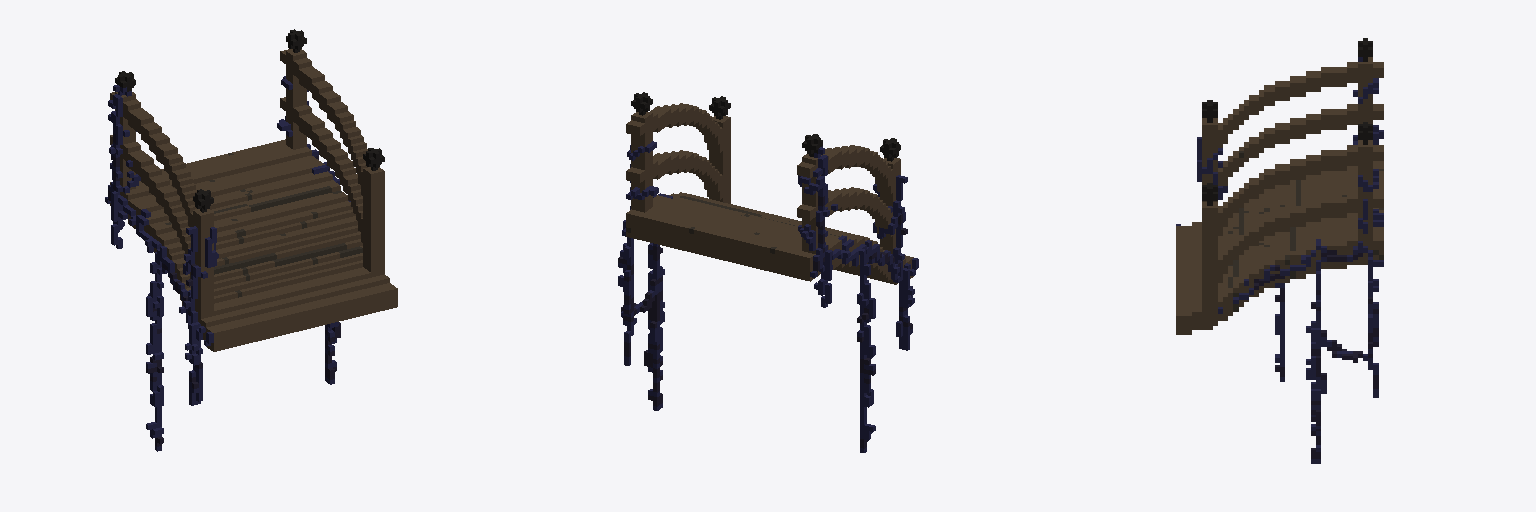
3 renders of one model, left to right at view 1: azimuth 30°, elevation 25°; view 2: azimuth 150°, elevation 25°; view 3: azimuth 270°, elevation 25°, orthographic.
Visible parts, largest first — view 1: object 1; view 2: object 1; view 3: object 1.
Boxes of the visible parts, x1,y1,x2,y2 form: object 1: [105, 29, 397, 451]; object 1: [618, 92, 918, 452]; object 1: [1176, 38, 1383, 463].
Bounding box in the file's own units: 4.8 × 7.3 × 4.
1 materials, 1 textured.